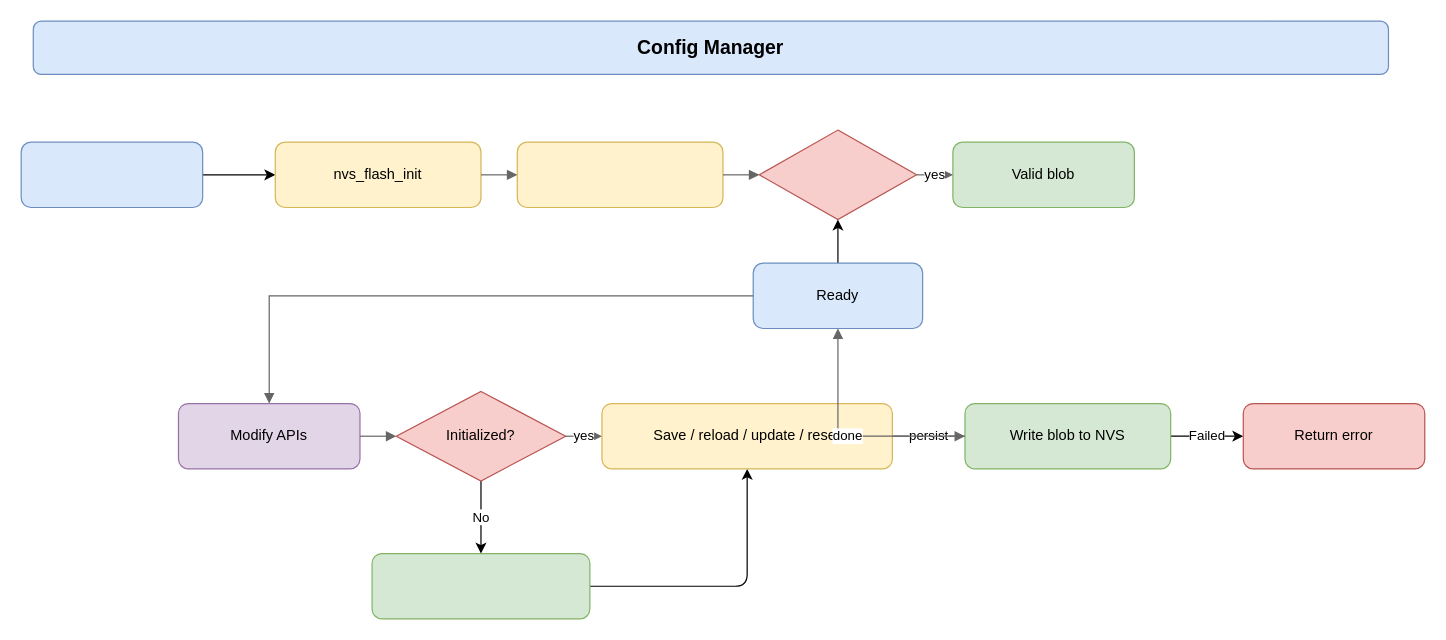
Image size: 1446x640. Some labels were removed from this diagram. Each missing label, with the centre of its shape:
Init: pixel 111 174
Load defaults and save: pixel 480 585
nvs_open app_cfg: pixel 619 174
Read blob: pixel 837 174
